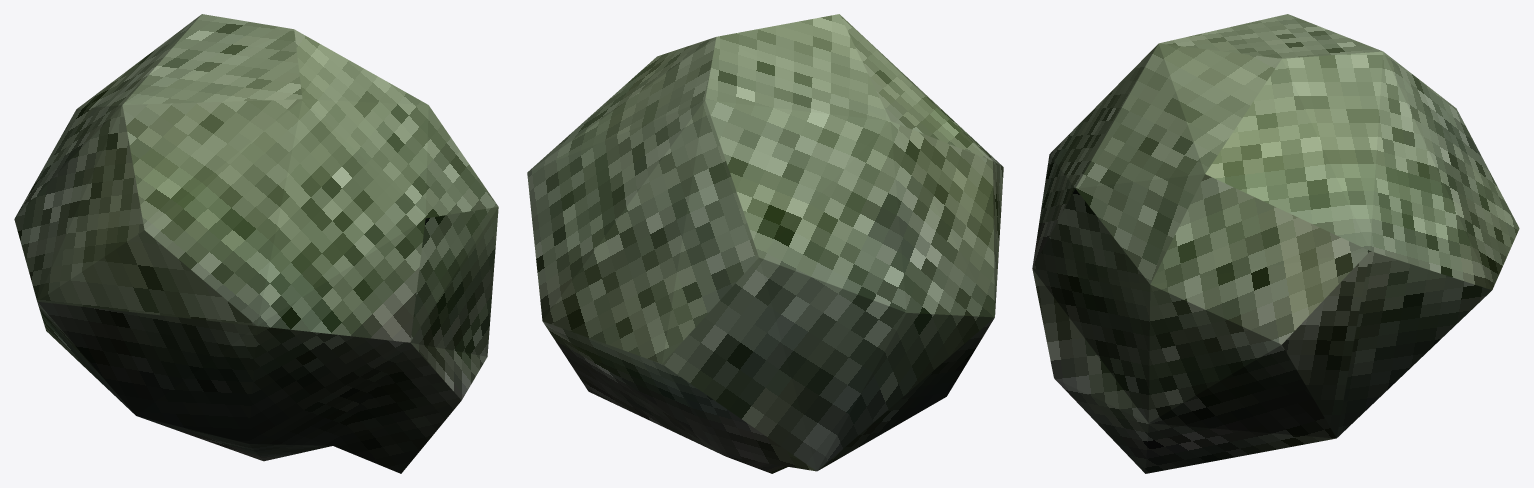
File: ga3_bush_50.glb
3 views of the same model, side by side, from view 1: azimuth 30°, elevation 25°; view 2: azimuth 150°, elevation 25°; view 3: azimuth 270°, elevation 25° (orthographic). The views are drawn at different scales.
Parts seen in each view (by area): view 1: ga3_bush_50; view 2: ga3_bush_50; view 3: ga3_bush_50.
Boxes of the visible parts, x1,y1,x2,y2 form: ga3_bush_50: [14, 14, 498, 473]; ga3_bush_50: [527, 14, 1003, 473]; ga3_bush_50: [1032, 14, 1519, 473].
Bounding box in the file's own units: 0.9698 × 0.8865 × 0.961.
1 material, 1 textured.
